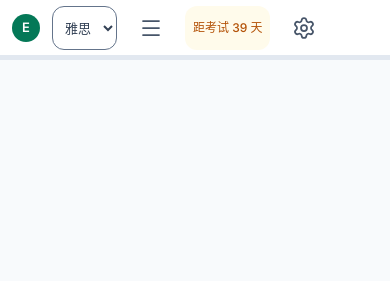
Test: 移动端页面切换菜单 › 展开后列出四个页面，选中后回到学习页之外并关闭菜单
Step 1. Click the button named "切换页面" → [151, 28], box [129,6,173,50]
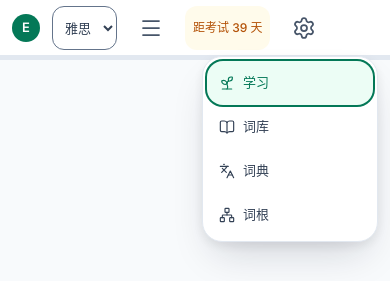
expect the button "学习" is shown: met, box [207,61,373,105]
expect the button "词库" is shown: met, box [207,105,373,149]
expect the button "词典" is shown: met, box [207,149,373,193]
Step 2. Click the button "词根" → [290, 215], box [207,193,373,237]
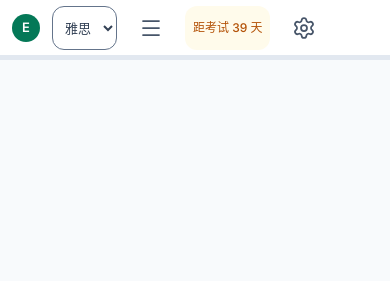
expect the navigation bar "页面切换" is gone: met
